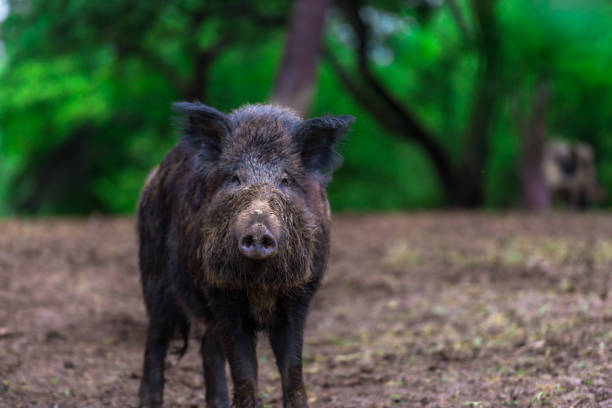pig: (134, 104, 343, 398)
